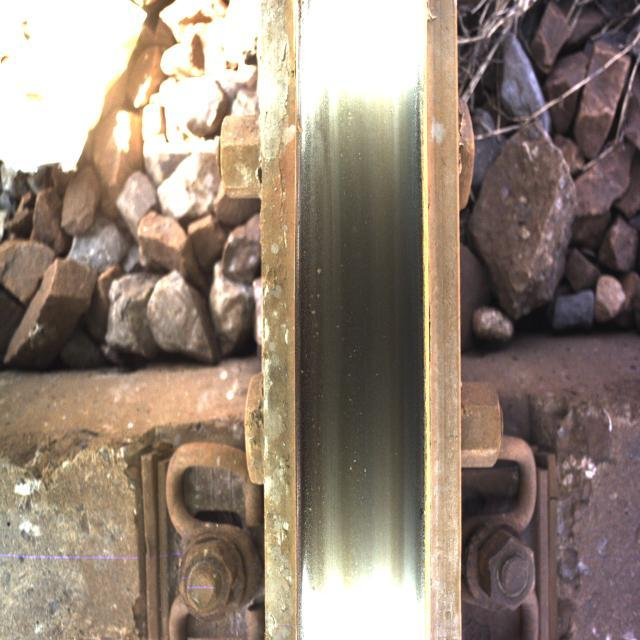break: (305, 26, 417, 600)
